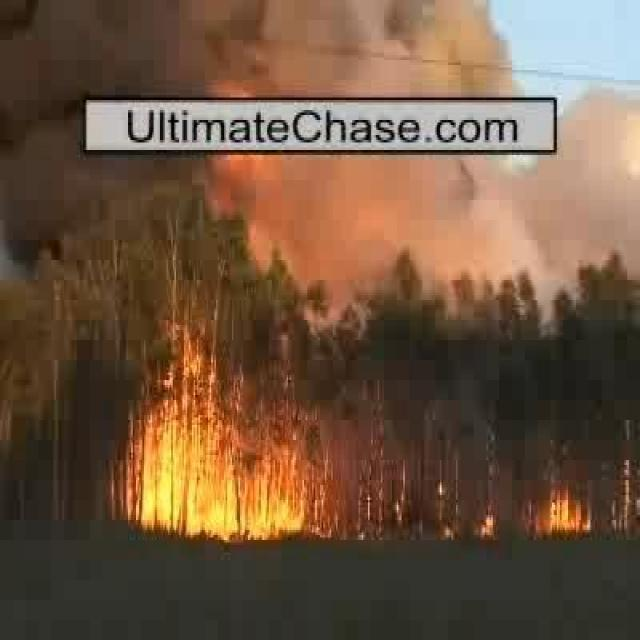fire: (149, 427, 219, 533)
smoke: (139, 1, 495, 95), (255, 156, 574, 244)
